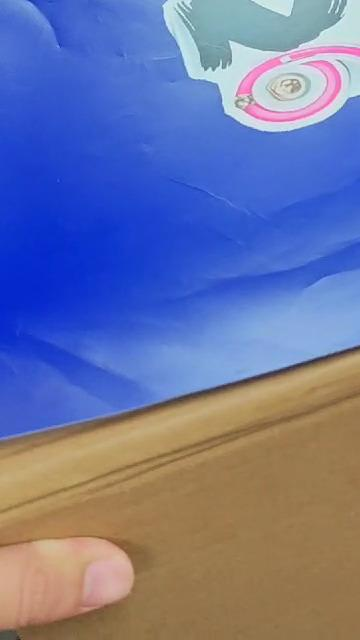B_R1: (123, 0, 360, 277)
